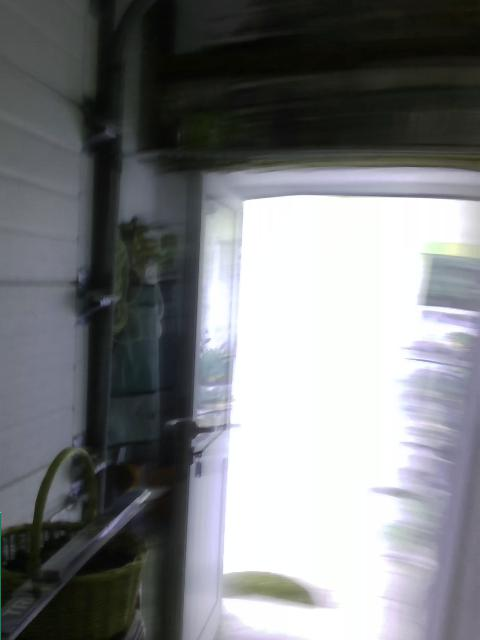open_door: (217, 192, 479, 636)
